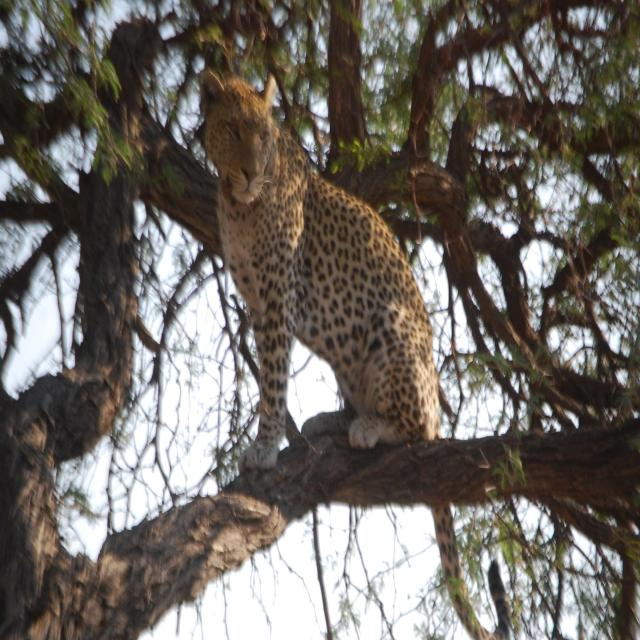Leopard: (191, 37, 452, 467)
